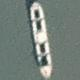ship: (25, 0, 54, 40)
